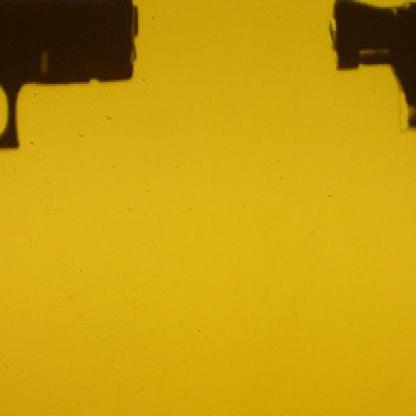gun: (0, 0, 142, 299), (328, 0, 414, 290)
